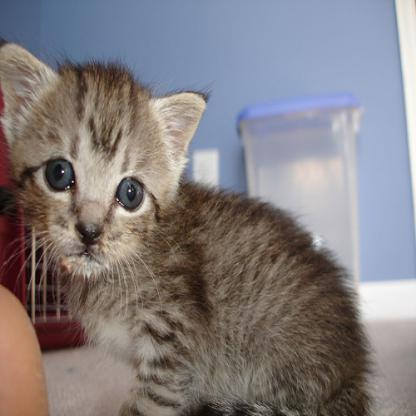cat: (1, 30, 383, 415)
